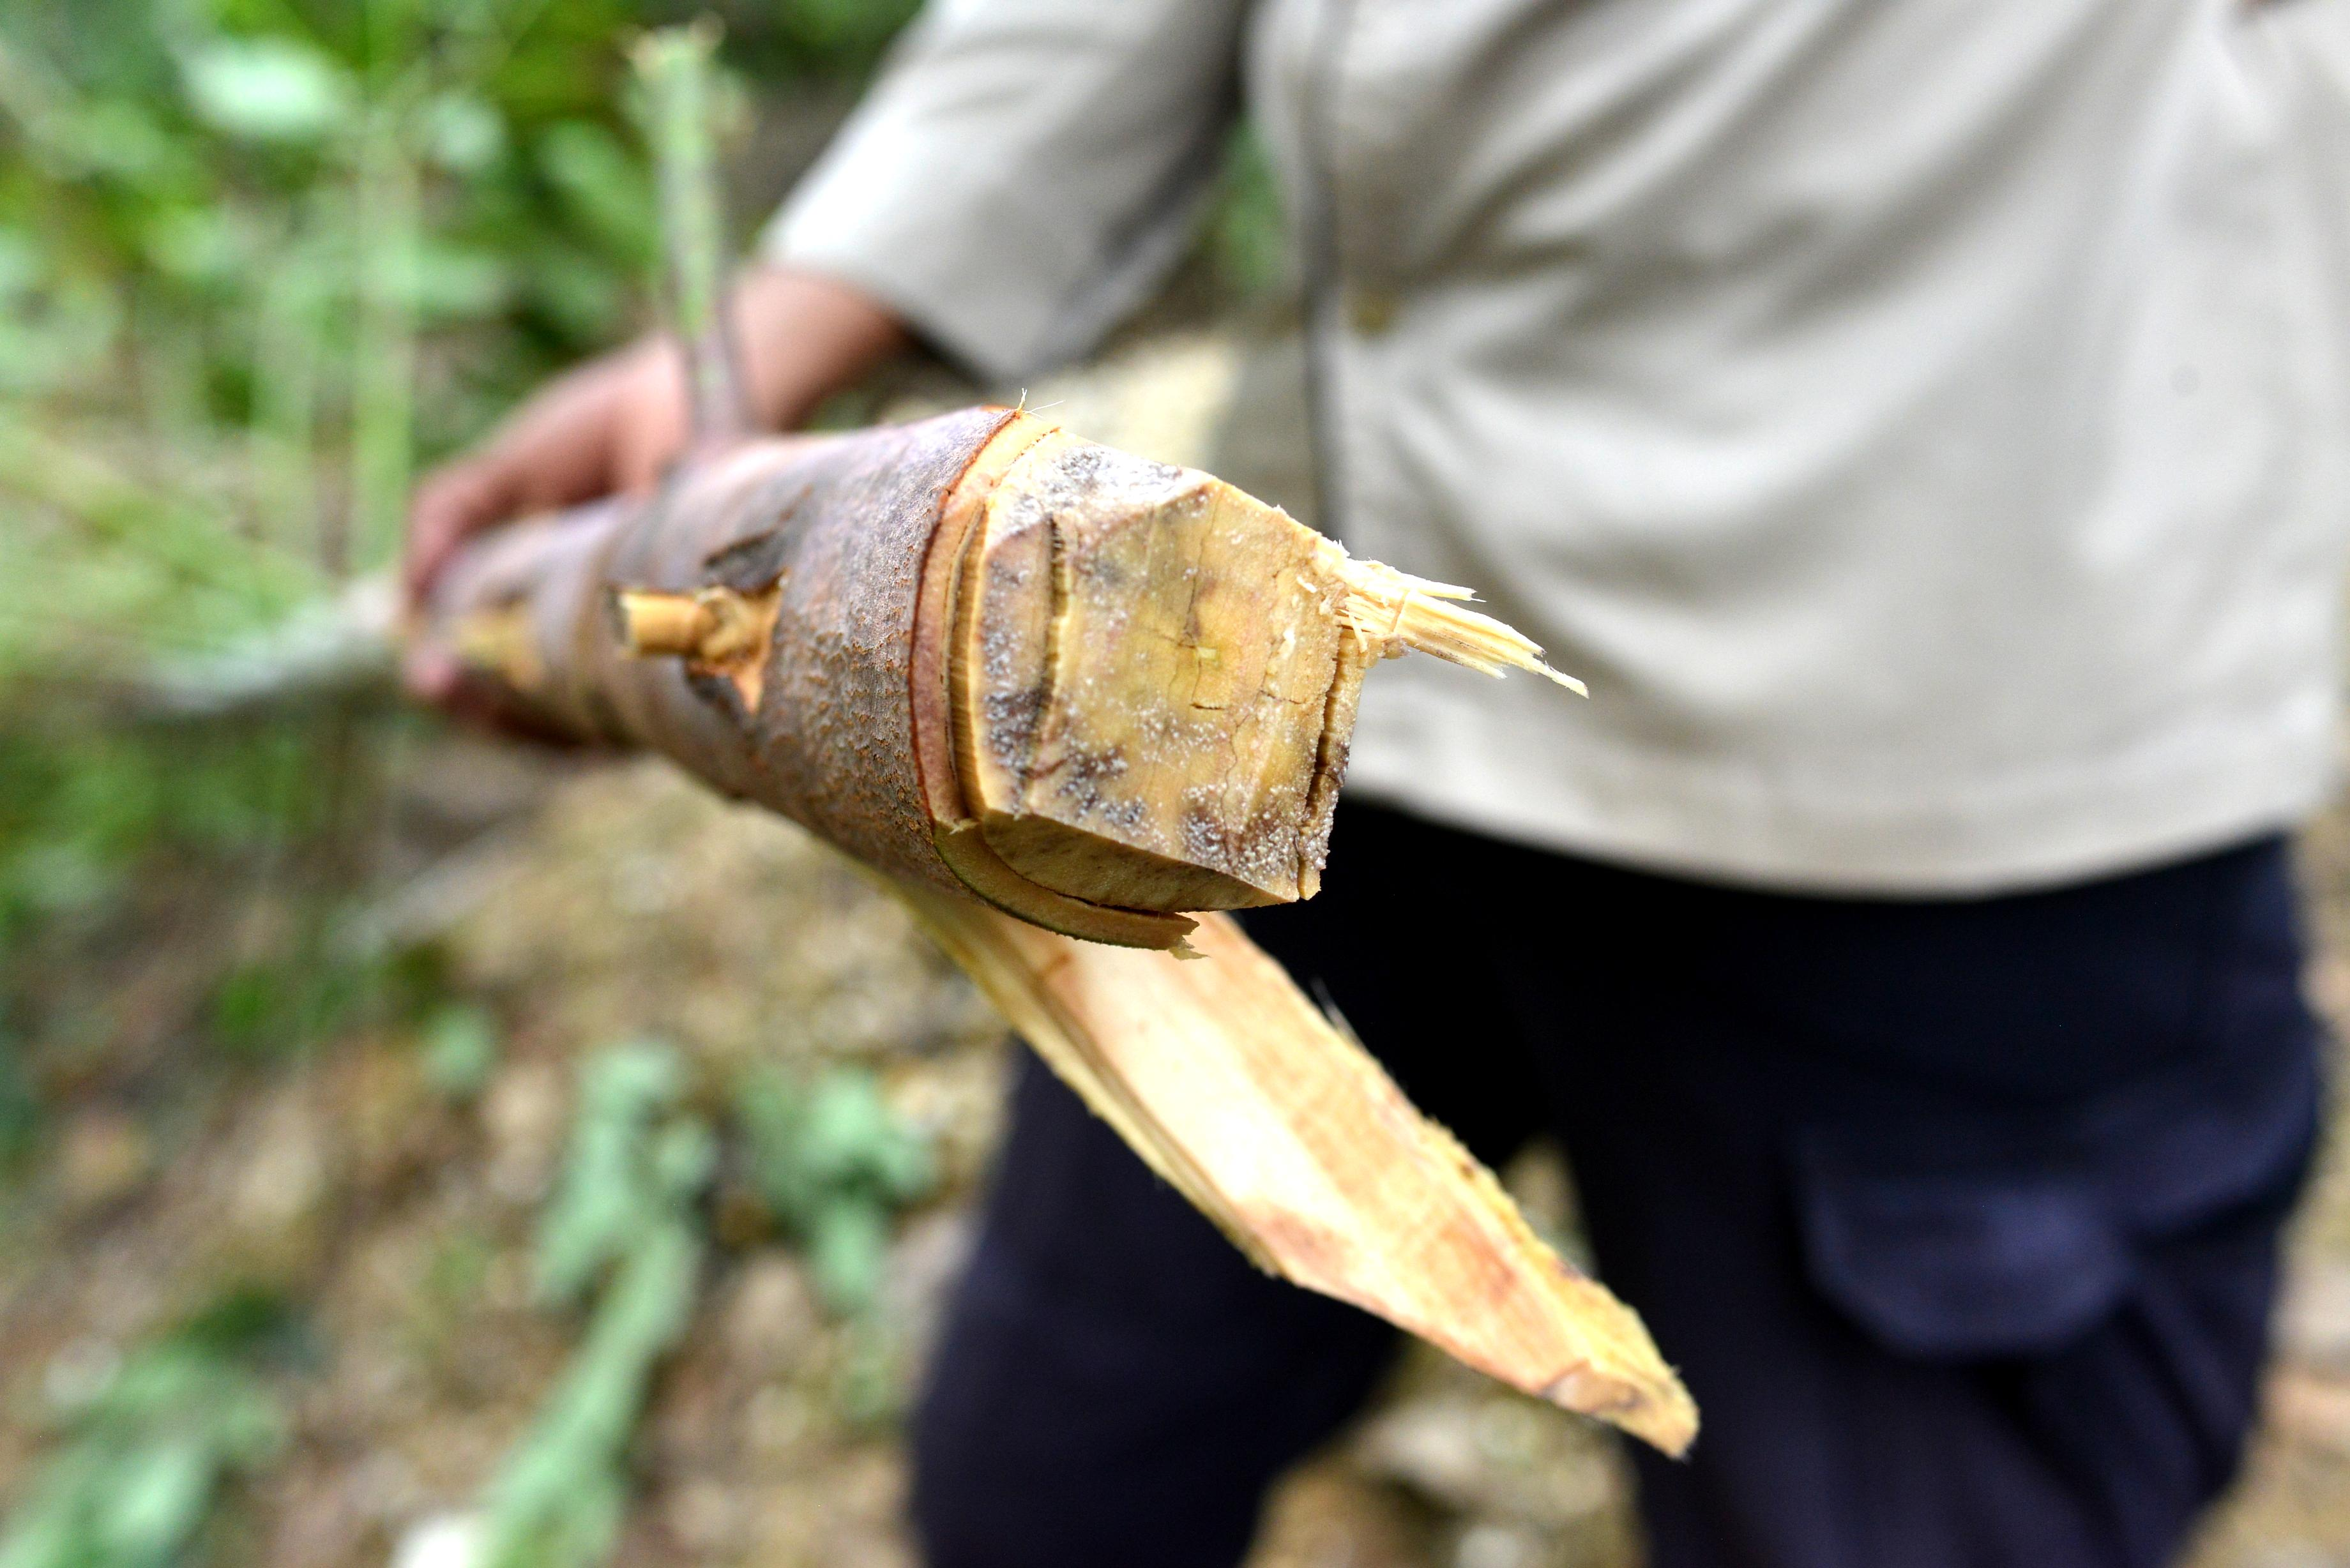Ralstonia: (1050, 714, 1340, 882), (959, 502, 1045, 835), (1057, 518, 1160, 698), (1015, 429, 1183, 509)
